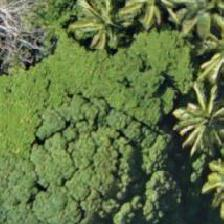coconut_tree: (59, 0, 149, 73), (171, 75, 223, 165), (175, 1, 223, 91), (166, 0, 223, 54)
